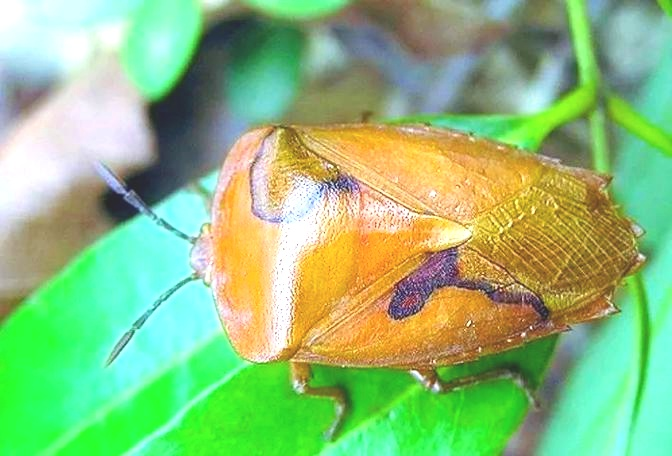Stink_Bug: (164, 134, 634, 344)
